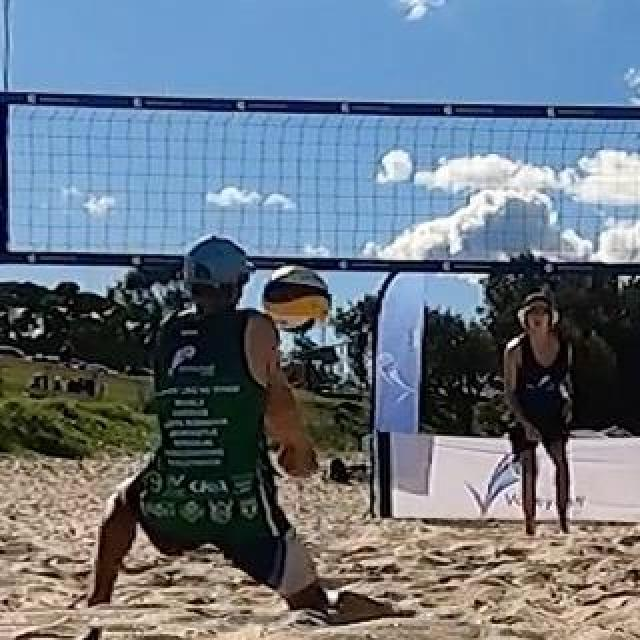volleyball: (261, 266, 327, 332)
